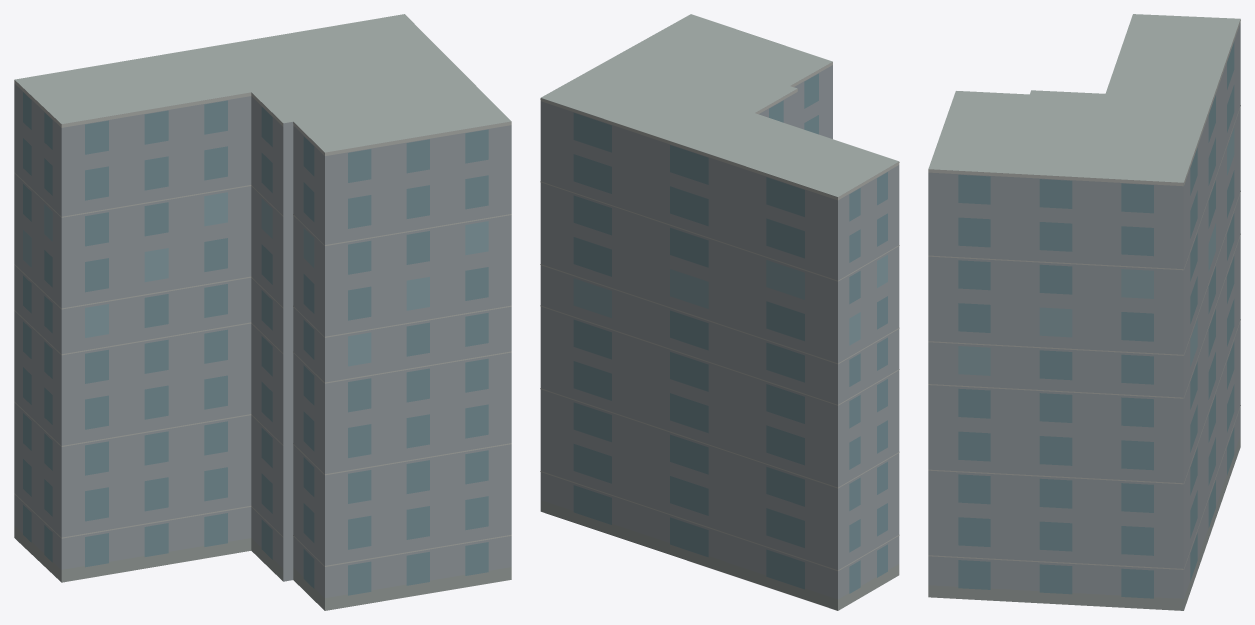
Rendered from survey-upis-32829455.glb.
3 renders of one model, left to right at view 1: azimuth 30°, elevation 25°; view 2: azimuth 150°, elevation 25°; view 3: azimuth 270°, elevation 25°, orthographic. The views are drawn at different scales.
Visible parts, largest first — view 1: survey-upis-32829455.tmp; view 2: survey-upis-32829455.tmp; view 3: survey-upis-32829455.tmp.
Part boxes in pixels (left/top/right/bottom): survey-upis-32829455.tmp: left=14, top=14, right=511, bottom=610; survey-upis-32829455.tmp: left=540, top=14, right=899, bottom=610; survey-upis-32829455.tmp: left=928, top=14, right=1240, bottom=610.
Size of the model in its own units: 25.81 by 30.5 by 20.19.
